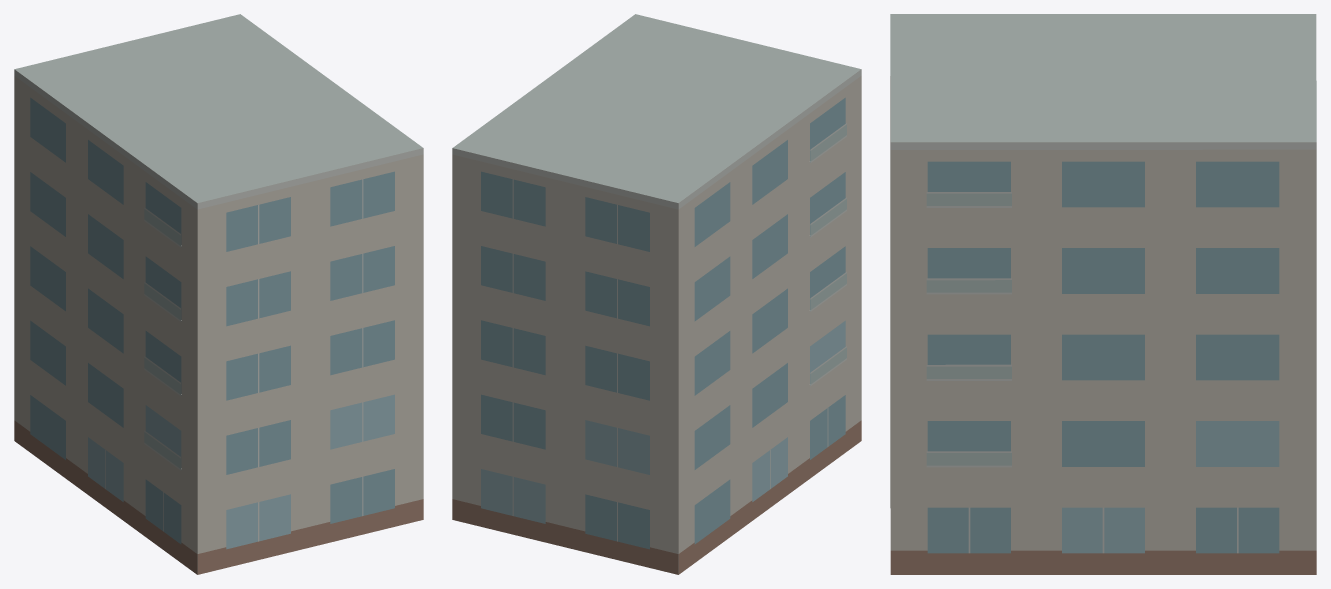
Rendered from survey-upis-32738842.glb.
3 renders of one model, left to right at view 1: azimuth 30°, elevation 25°; view 2: azimuth 150°, elevation 25°; view 3: azimuth 270°, elevation 25°, orthographic. The views are drawn at different scales.
Visible parts, largest first — view 1: survey-upis-32738842.tmp; view 2: survey-upis-32738842.tmp; view 3: survey-upis-32738842.tmp.
Boxes of the visible parts, bbox=[...] form: survey-upis-32738842.tmp: bbox=[14, 14, 423, 574]; survey-upis-32738842.tmp: bbox=[452, 14, 861, 574]; survey-upis-32738842.tmp: bbox=[890, 14, 1316, 574].
Bounding box in the file's own units: 9.12 × 14.2 × 12.7.
